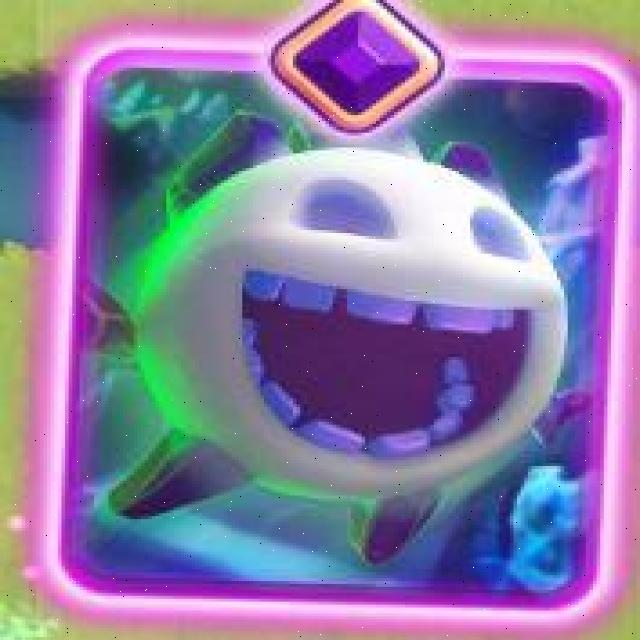Evolved_Ice_Spirit: (60, 43, 608, 614)
